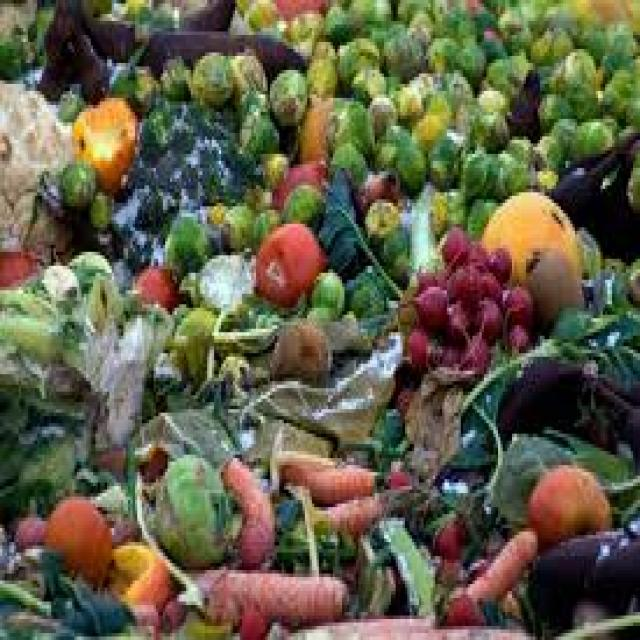organic waste: (0, 0, 638, 637), (0, 244, 151, 451), (237, 322, 396, 451), (128, 98, 258, 227), (128, 395, 230, 539), (489, 427, 633, 528), (0, 80, 84, 245), (547, 115, 638, 259), (526, 521, 638, 637), (449, 353, 594, 441), (123, 21, 305, 91), (0, 388, 84, 528), (0, 546, 126, 636), (521, 300, 638, 392), (477, 192, 580, 284), (188, 560, 344, 619), (152, 451, 230, 560), (280, 605, 528, 637), (526, 465, 607, 549), (214, 448, 275, 556), (35, 0, 105, 94), (401, 357, 458, 472), (458, 525, 538, 605), (70, 91, 135, 182), (305, 479, 416, 532), (253, 220, 326, 298), (46, 493, 110, 581), (459, 350, 498, 493), (107, 535, 172, 619), (179, 241, 256, 308), (317, 164, 363, 273), (274, 518, 358, 574), (110, 189, 168, 266), (519, 241, 584, 308), (275, 455, 379, 493), (342, 259, 386, 346), (370, 119, 424, 189), (163, 301, 212, 374), (265, 318, 328, 374), (379, 17, 428, 77), (403, 175, 435, 266), (272, 150, 326, 203), (235, 84, 279, 147), (307, 301, 368, 346), (303, 462, 370, 500), (426, 182, 472, 234), (126, 259, 174, 308), (491, 136, 533, 192), (163, 210, 205, 266), (328, 94, 370, 150), (188, 45, 232, 98), (296, 94, 330, 161), (486, 42, 528, 94), (570, 217, 603, 283), (0, 7, 35, 66), (361, 189, 400, 241), (268, 63, 302, 122), (282, 182, 326, 227), (30, 161, 65, 217), (337, 31, 377, 80), (358, 158, 398, 206), (531, 129, 563, 189), (279, 448, 335, 482), (558, 42, 594, 94), (182, 0, 235, 35), (226, 185, 253, 252), (408, 276, 444, 326), (528, 14, 568, 59), (602, 60, 638, 109), (84, 14, 130, 52), (10, 496, 44, 546), (0, 241, 42, 280), (533, 84, 572, 126), (428, 133, 459, 185), (510, 66, 535, 130), (380, 220, 408, 276), (61, 161, 93, 210), (312, 259, 342, 311), (582, 108, 619, 150), (114, 56, 151, 98), (572, 10, 603, 60), (442, 66, 470, 119), (438, 584, 480, 619), (328, 136, 363, 178), (394, 66, 428, 108), (230, 45, 261, 91), (461, 140, 486, 196), (400, 314, 433, 356), (284, 178, 319, 217), (454, 38, 486, 80), (547, 112, 582, 150), (498, 314, 533, 350), (258, 147, 291, 185), (454, 94, 479, 144), (433, 220, 465, 259), (347, 0, 391, 28), (433, 507, 458, 556), (598, 252, 633, 287), (156, 49, 188, 87), (426, 35, 458, 73), (465, 192, 489, 242), (521, 0, 570, 24), (605, 24, 633, 66), (368, 94, 393, 140), (303, 56, 335, 91), (282, 7, 318, 38), (435, 332, 463, 371), (594, 73, 622, 112), (442, 294, 470, 332), (254, 203, 282, 241), (323, 0, 351, 38), (468, 259, 502, 290), (352, 63, 386, 94), (561, 84, 598, 112), (477, 294, 500, 339), (128, 594, 156, 630), (88, 182, 112, 224), (246, 0, 277, 31), (409, 105, 440, 136), (482, 105, 507, 143), (463, 231, 489, 266), (104, 507, 140, 532), (435, 549, 463, 581), (484, 242, 510, 276), (482, 21, 507, 56), (498, 280, 528, 308), (444, 262, 472, 290), (477, 80, 505, 108), (242, 178, 263, 214), (126, 0, 170, 17), (307, 35, 338, 59), (456, 14, 482, 42), (394, 0, 428, 21), (156, 588, 179, 619), (202, 210, 219, 248), (391, 378, 414, 406), (538, 52, 556, 84), (93, 224, 116, 248), (449, 0, 481, 17), (409, 262, 433, 280), (207, 196, 226, 217), (486, 0, 504, 17), (433, 255, 442, 280), (235, 0, 251, 14), (88, 0, 116, 7), (510, 0, 519, 21), (428, 0, 444, 10)
